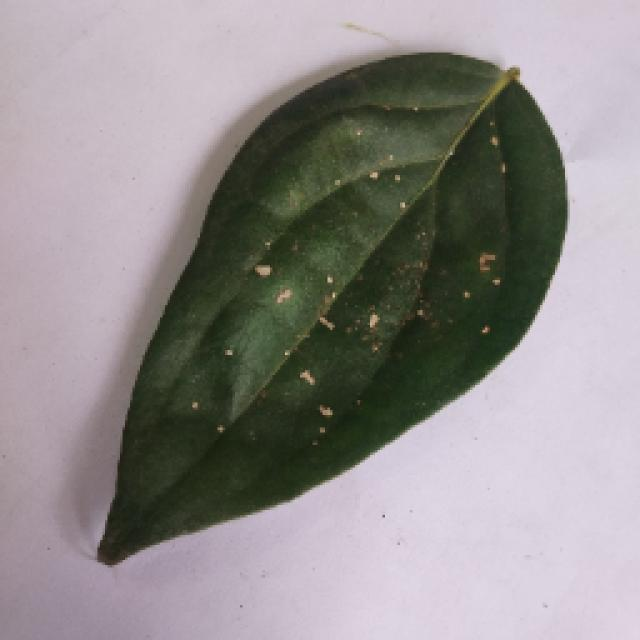pollu-disease: (72, 45, 582, 567)
